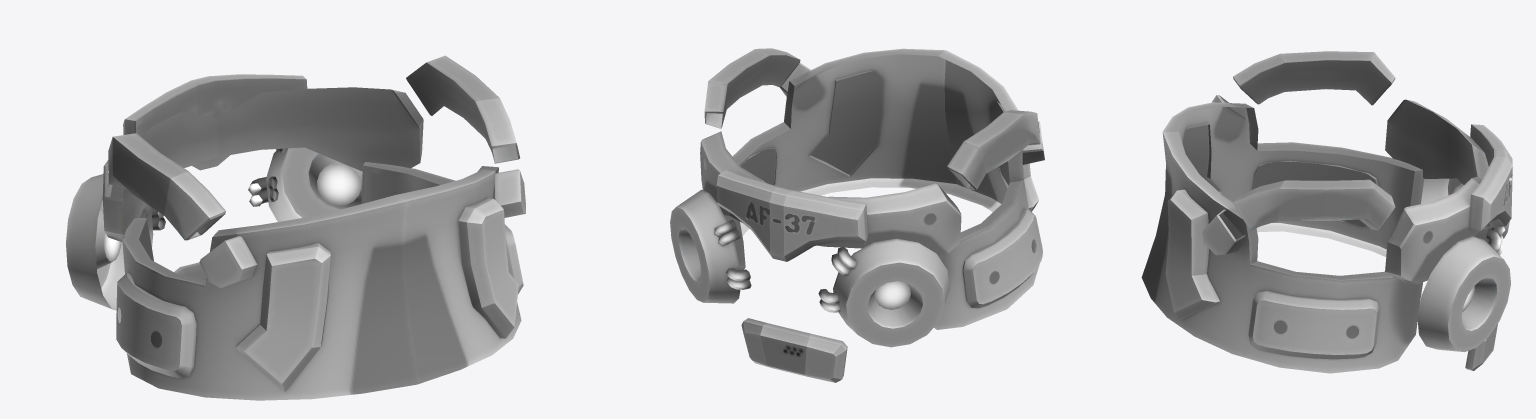
Rendered from IG_Armor_SnowBoss_Lv4.fbx.
3 views of the same model, side by side, from view 1: azimuth 30°, elevation 25°; view 2: azimuth 150°, elevation 25°; view 3: azimuth 270°, elevation 25° (orthographic). The views are drawn at different scales.
Visible parts, largest first — view 1: Clothes_AntiFreeze; view 2: Clothes_AntiFreeze; view 3: Clothes_AntiFreeze.
Boxes of the visible parts, x1,y1,x2,y2 form: Clothes_AntiFreeze: (66,55,525,400); Clothes_AntiFreeze: (670,48,1044,382); Clothes_AntiFreeze: (1141,51,1512,373).
Size of the model in its own units: 0.8615 by 0.5876 by 0.7294.
